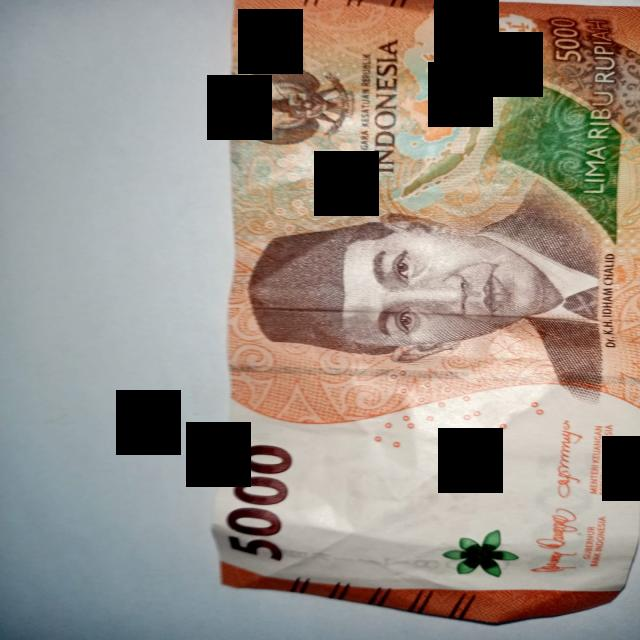lima ribu rupiah: (211, 0, 640, 627)
